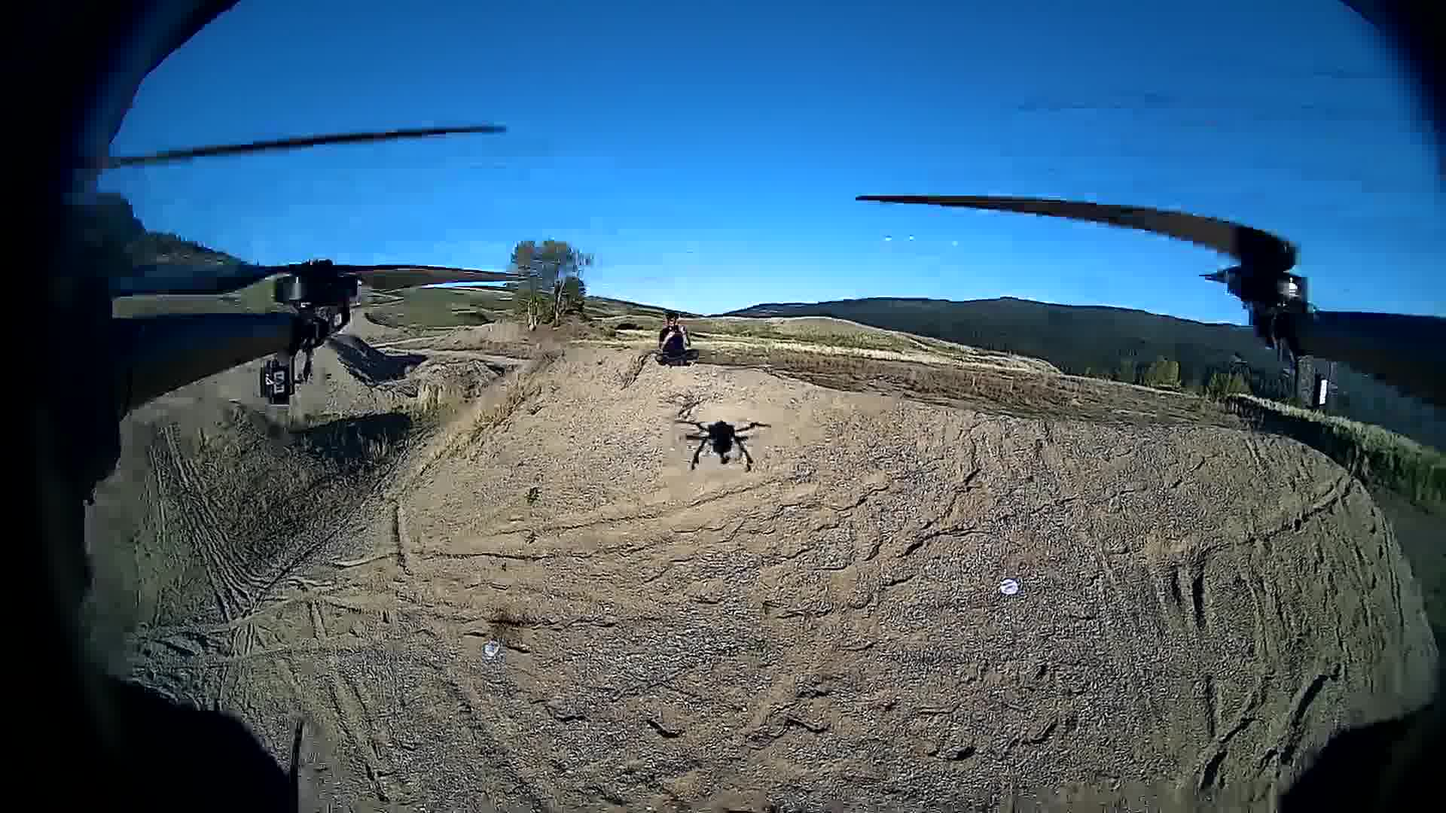Target: (999, 578, 1018, 597), (483, 641, 498, 655)
